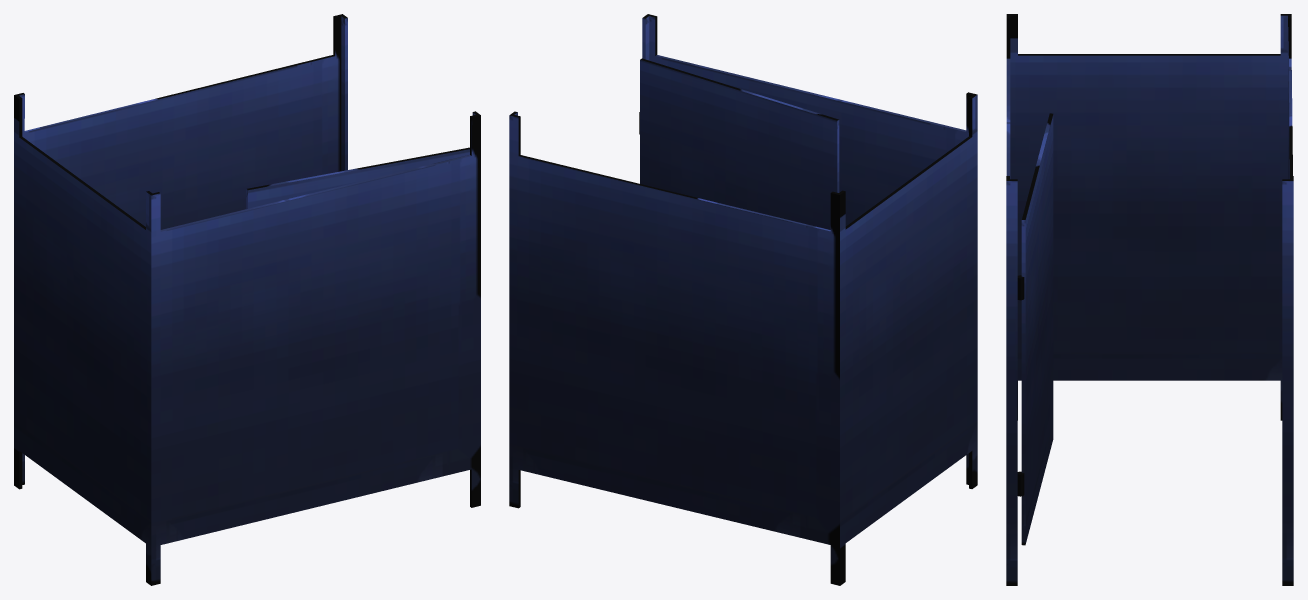
The model's file is stall_open.obj.
The picture shows the model from 3 angles, left to right: view 1: azimuth 30°, elevation 25°; view 2: azimuth 150°, elevation 25°; view 3: azimuth 270°, elevation 25°; orthographic projection. The views are drawn at different scales.
Parts seen in each view (by area): view 1: stall_open; view 2: stall_open; view 3: stall_open.
Part boxes in pixels (x1,y1,x2,y2): stall_open: (14, 14, 480, 585); stall_open: (509, 14, 977, 585); stall_open: (1006, 14, 1293, 585).
Size of the model in its own units: 2.13 by 2.4 by 1.54.
